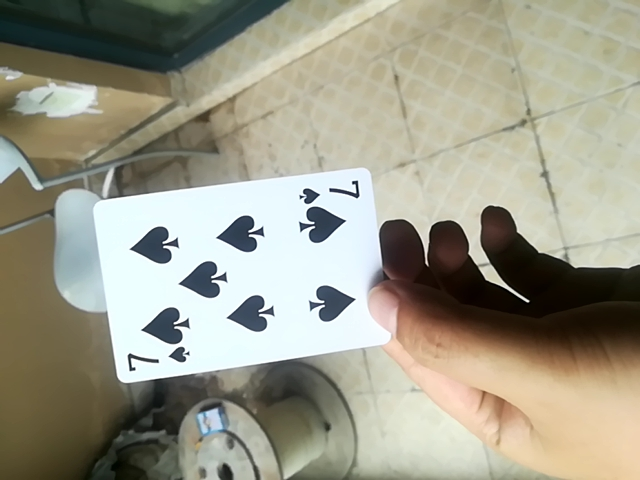ht 7: (85, 170, 383, 386)
